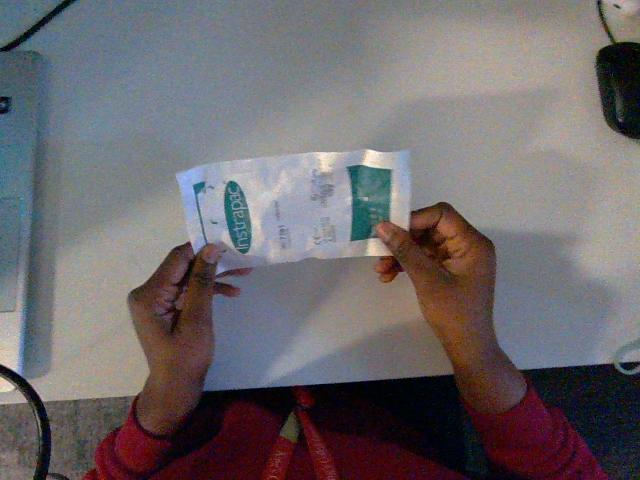gallipot: (177, 150, 410, 271)
